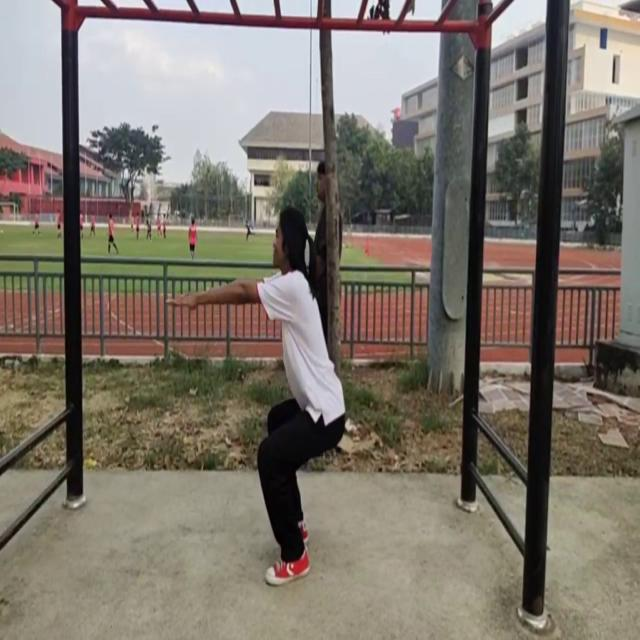squat: (180, 208, 346, 587)
